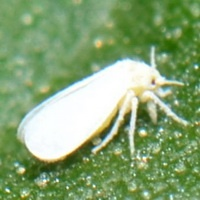insect: (17, 48, 190, 161)
